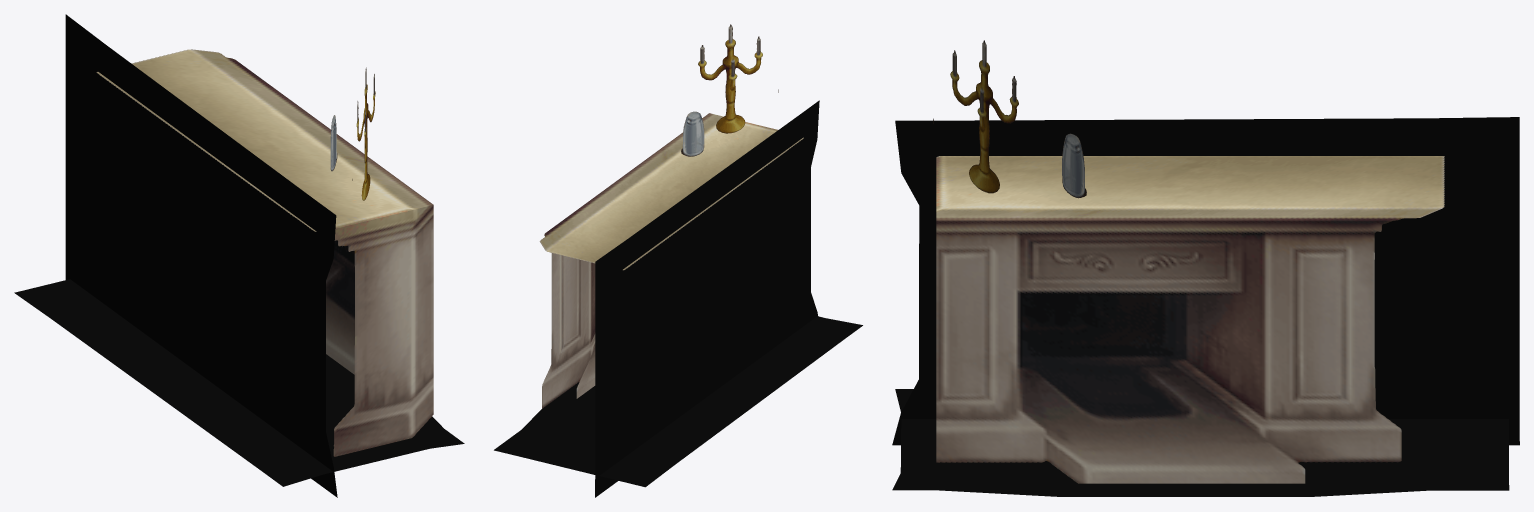
Rendered from K1_oldfireplace1.FBX.
The picture shows the model from 3 angles, left to right: view 1: azimuth 30°, elevation 25°; view 2: azimuth 150°, elevation 25°; view 3: azimuth 270°, elevation 25°; orthographic projection. The views are drawn at different scales.
Visible parts, largest first — view 1: oldfireplace1_02, oldfireplace1; view 2: oldfireplace1_02, oldfireplace1; view 3: oldfireplace1, oldfireplace1_02.
Boxes of the visible parts, bbox=[...] form: oldfireplace1_02: bbox=[14, 14, 464, 497]; oldfireplace1: bbox=[96, 49, 433, 456]; oldfireplace1_02: bbox=[494, 100, 862, 497]; oldfireplace1: bbox=[539, 24, 803, 408]; oldfireplace1: bbox=[933, 40, 1444, 483]; oldfireplace1_02: bbox=[892, 117, 1519, 496].
Size of the model in its own units: 1.25 by 2.38 by 3.01.
